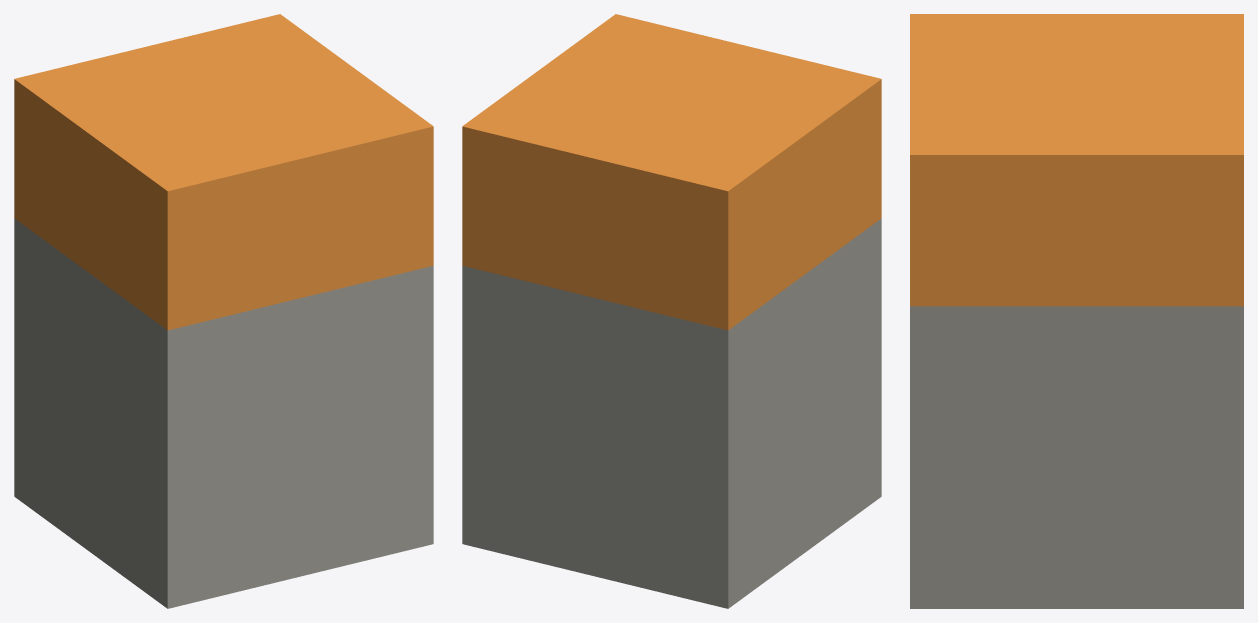
File: lib_corner_low.glb
3 views of the same model, side by side, from view 1: azimuth 30°, elevation 25°; view 2: azimuth 150°, elevation 25°; view 3: azimuth 270°, elevation 25° (orthographic). The views are drawn at different scales.
Visible parts, largest first — view 1: pier; view 2: pier; view 3: pier.
Part boxes in pixels (<box>): pier: <box>14,14,433,608</box>; pier: <box>462,14,881,608</box>; pier: <box>910,14,1243,608</box>.
Size of the model in its own units: 0.4 by 0.6 by 0.4.
